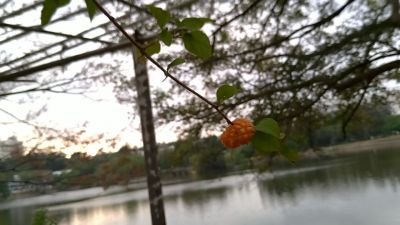eggs: (221, 117, 255, 148)
